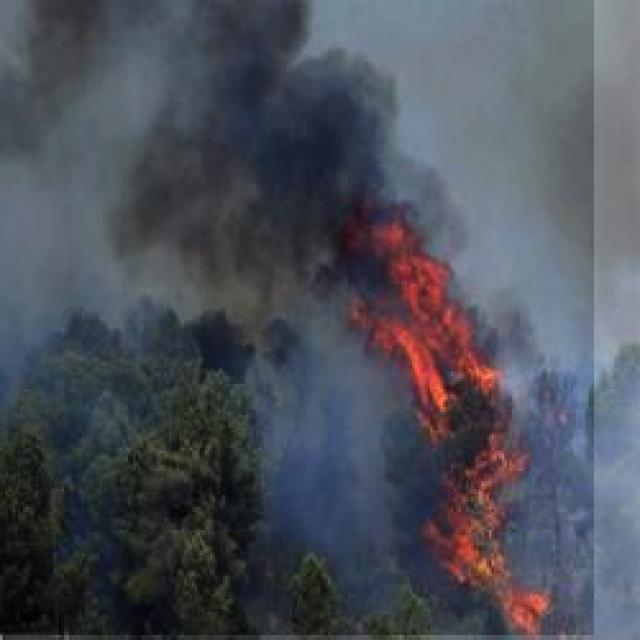Fire: (340, 207, 568, 632)
Smoke: (0, 0, 594, 635)
